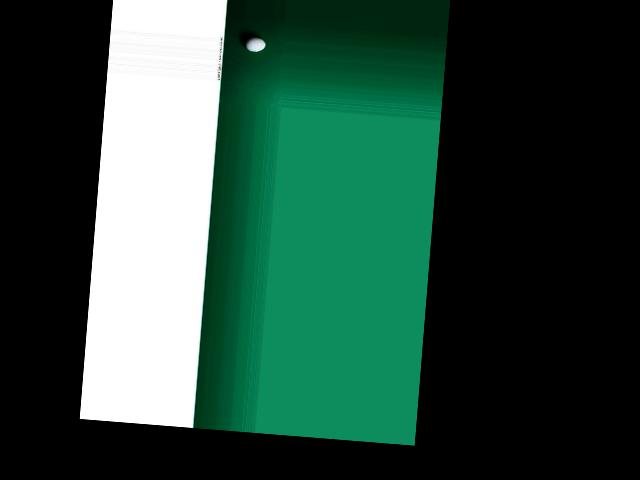egg: (244, 37, 265, 53)
